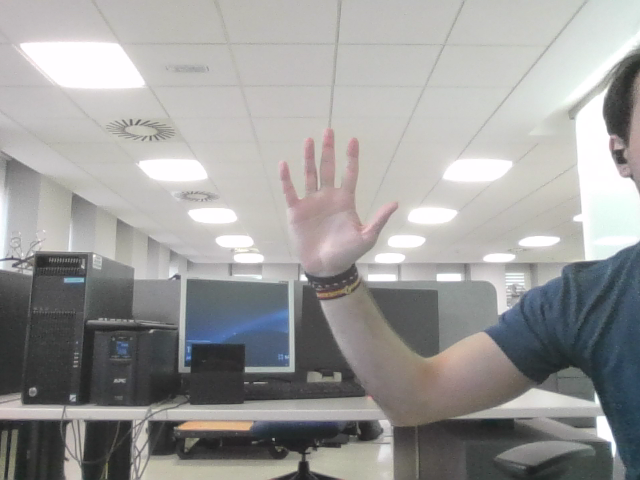Mano Abierta: (287, 140, 386, 250)
